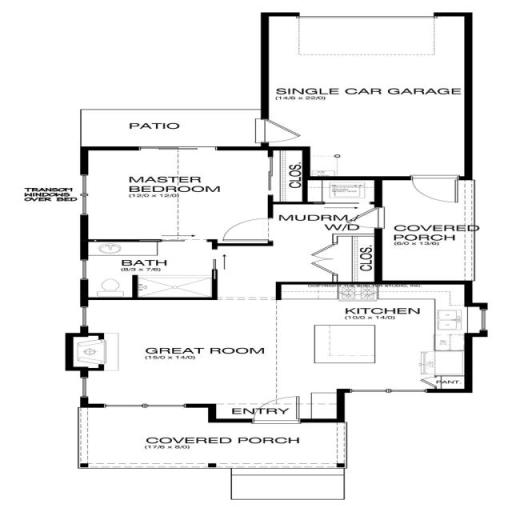bathroom: (88, 246, 224, 289)
bedroom: (88, 151, 275, 237)
garage: (276, 21, 464, 165)
hall: (92, 298, 280, 408)
kitchen: (280, 278, 468, 385)
porch: (81, 410, 350, 482), (382, 184, 480, 283)
